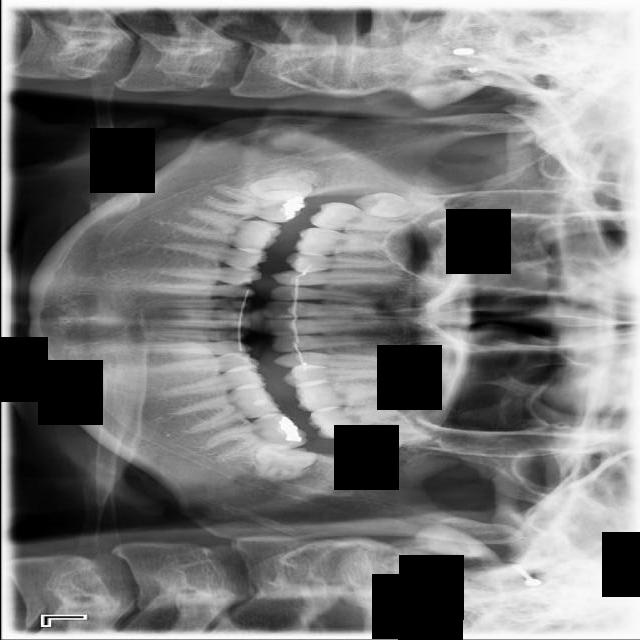3M ESPE Implant: (354, 192, 440, 218)
52: (249, 400, 313, 455), (230, 373, 283, 431), (258, 182, 311, 232)
73: (42, 598, 60, 604)
BioHorizons Implant: (306, 401, 426, 441)
BioLife Implant: (353, 425, 430, 454)
Biomet 3i Implant: (250, 440, 317, 486)
Blue Sky Bio Implant: (199, 407, 308, 464)
Caries: (308, 200, 417, 235)
Implant: (203, 184, 308, 225)
Keystone Dental Implant: (247, 168, 317, 201)
